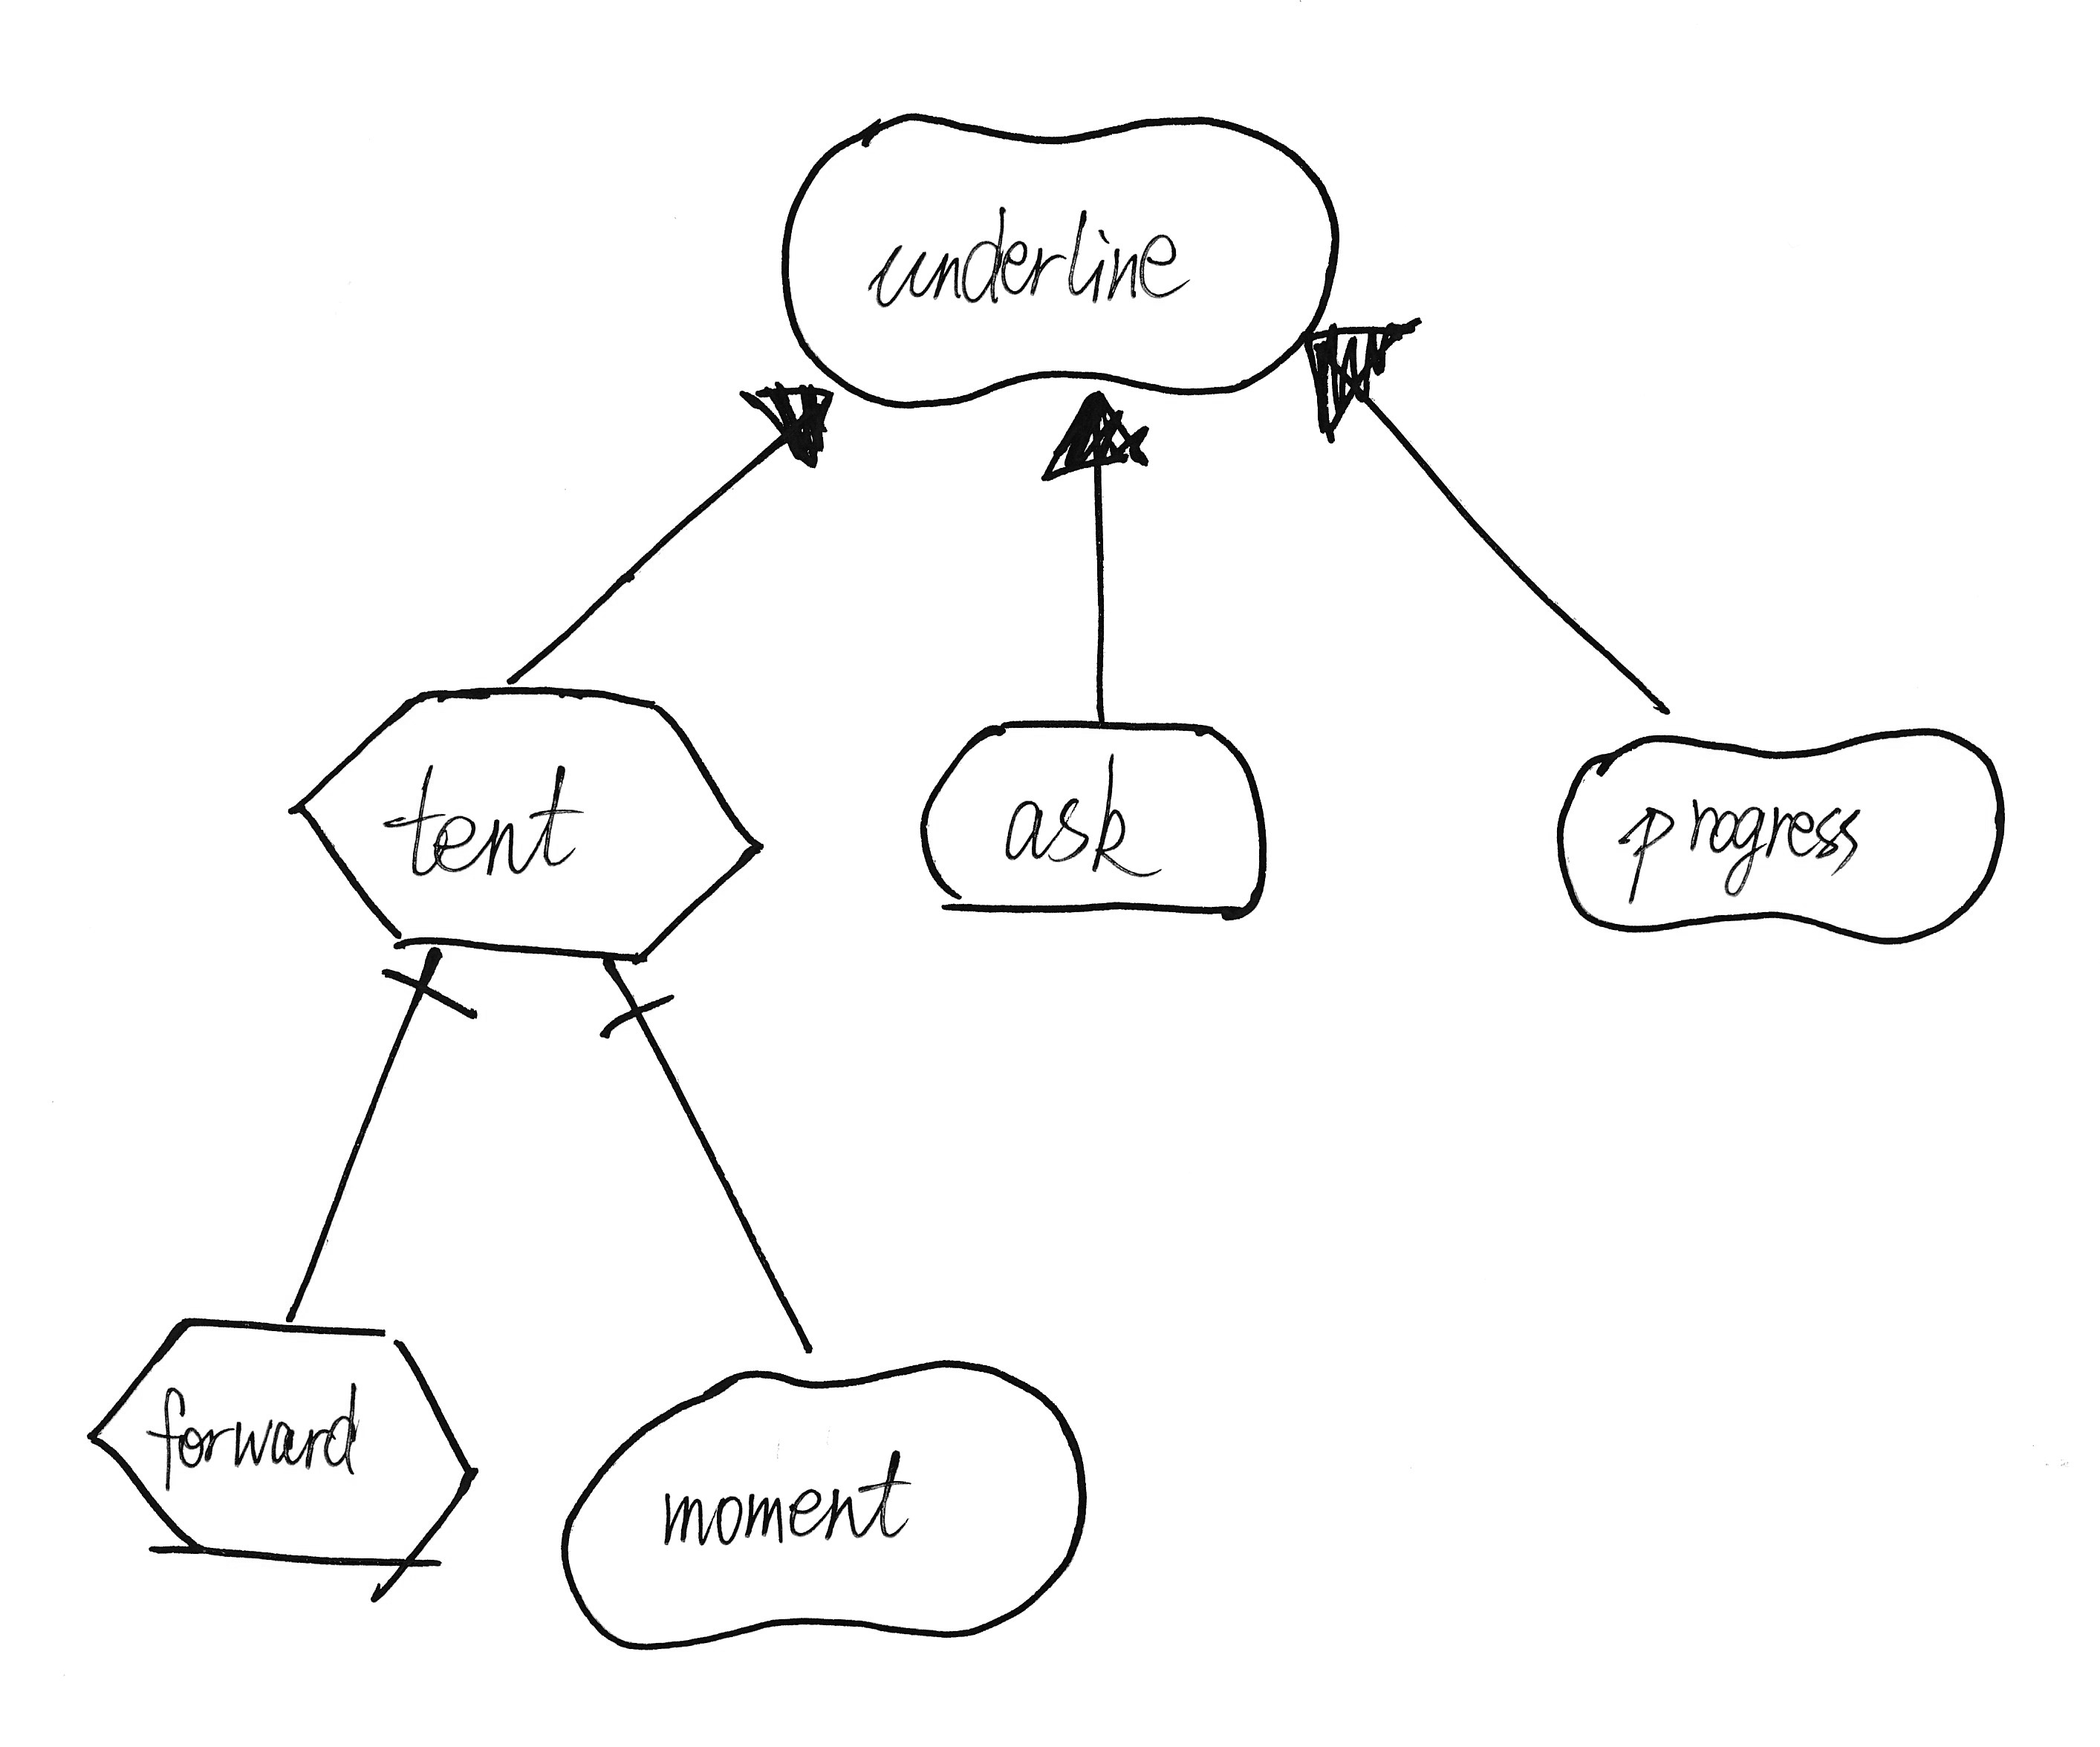and: (349, 941, 494, 1039), (574, 966, 701, 1060)
goal: (895, 694, 1292, 957)
or: (1292, 302, 1439, 464), (1022, 373, 1174, 500), (719, 357, 853, 495)
quality: (762, 85, 1353, 429), (546, 1346, 1111, 1670), (1533, 697, 2027, 959)
task: (269, 654, 780, 989), (68, 1292, 494, 1620)
